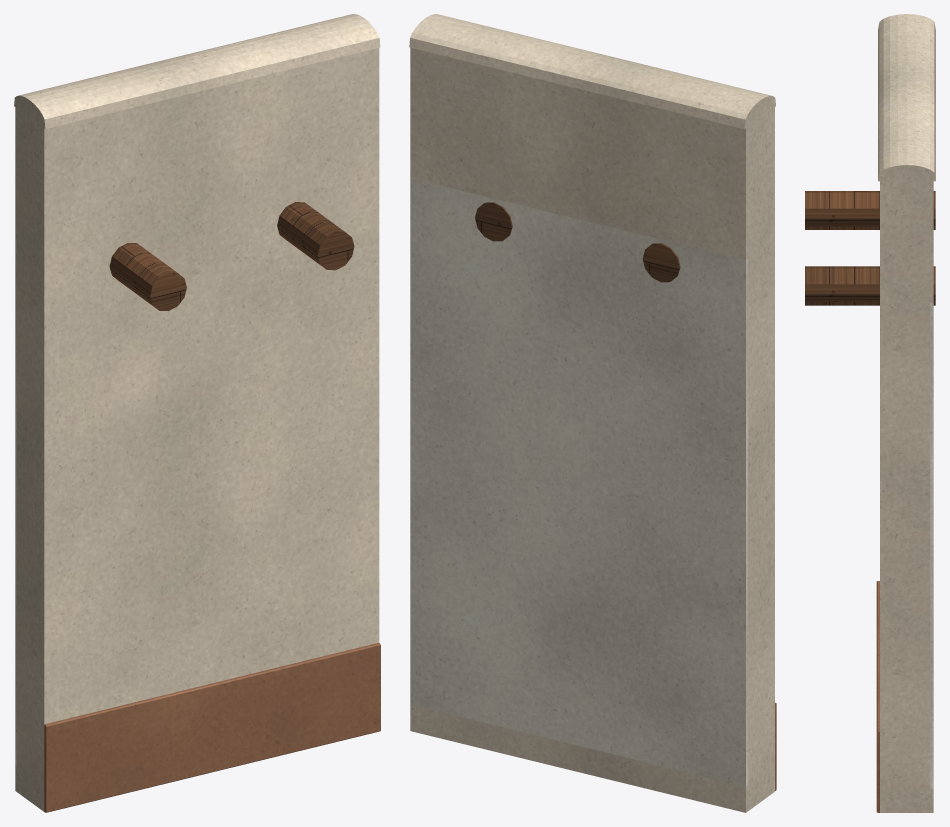
Rendered from c_wall_plain.glb.
3 views of the same model, side by side, from view 1: azimuth 30°, elevation 25°; view 2: azimuth 150°, elevation 25°; view 3: azimuth 270°, elevation 25° (orthographic). The views are drawn at different scales.
Parts seen in each view (by area): view 1: c_wall_plain_render, c_wall_plain_plinth, c_wall_plain_wood, c_wall_plain_plaster; view 2: c_wall_plain_plaster, c_wall_plain_render, c_wall_plain_wood; view 3: c_wall_plain_render, c_wall_plain_wood, c_wall_plain_plaster, c_wall_plain_plinth.
Part boxes in pixels (x1,y1,x2,y2): c_wall_plain_render: (14, 14, 380, 811); c_wall_plain_plinth: (44, 642, 380, 812); c_wall_plain_wood: (109, 202, 354, 310); c_wall_plain_plaster: (15, 239, 16, 765); c_wall_plain_plaster: (410, 178, 747, 786); c_wall_plain_render: (409, 14, 775, 812); c_wall_plain_wood: (475, 202, 680, 282); c_wall_plain_render: (878, 14, 935, 812); c_wall_plain_wood: (805, 191, 935, 305); c_wall_plain_plaster: (930, 302, 933, 788); c_wall_plain_plinth: (876, 581, 879, 812).
Bounding box in the file's own units: 2 × 4 × 0.732.
Materials: 4 (4 with a texture image).
